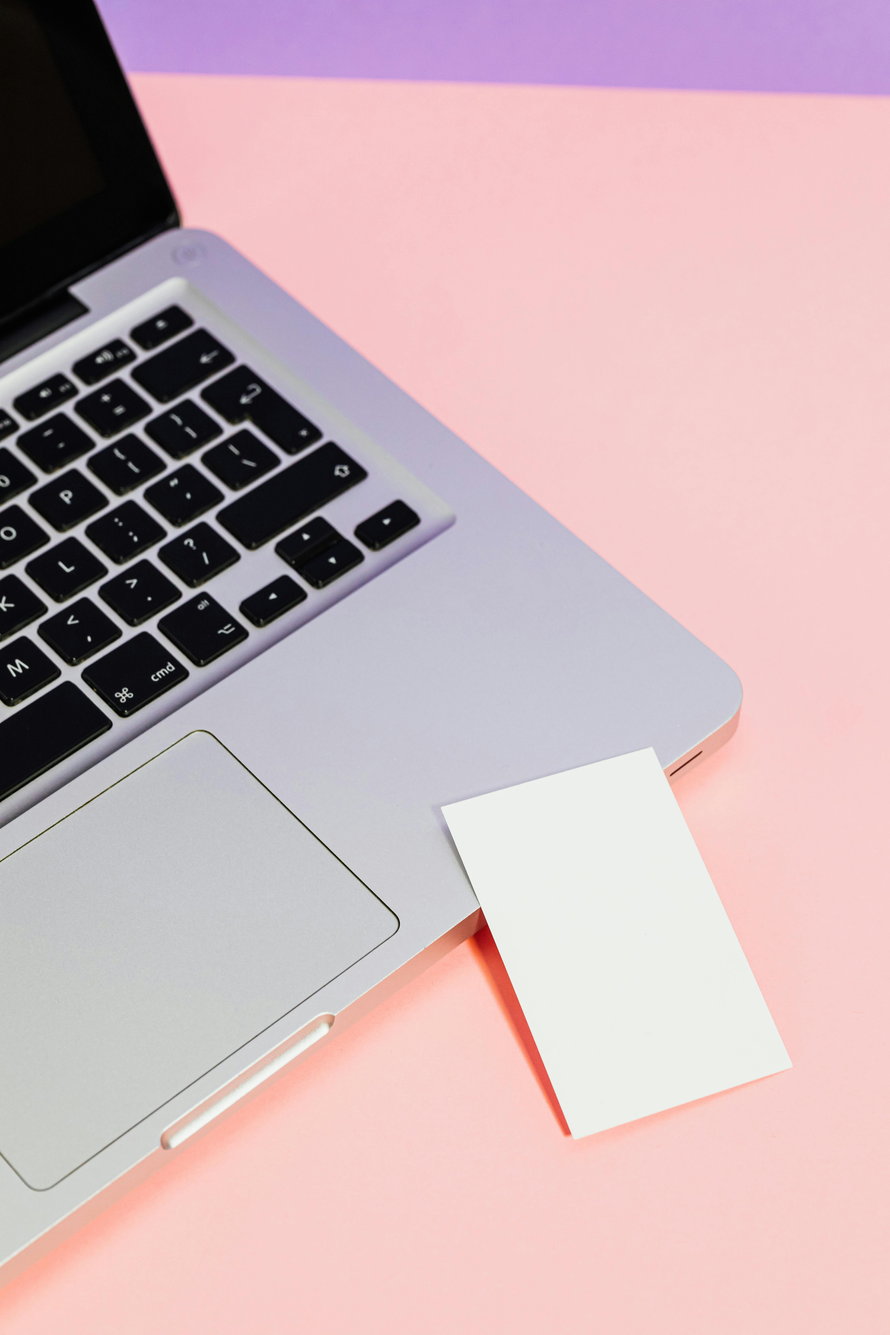paper: (440, 746, 790, 1143)
